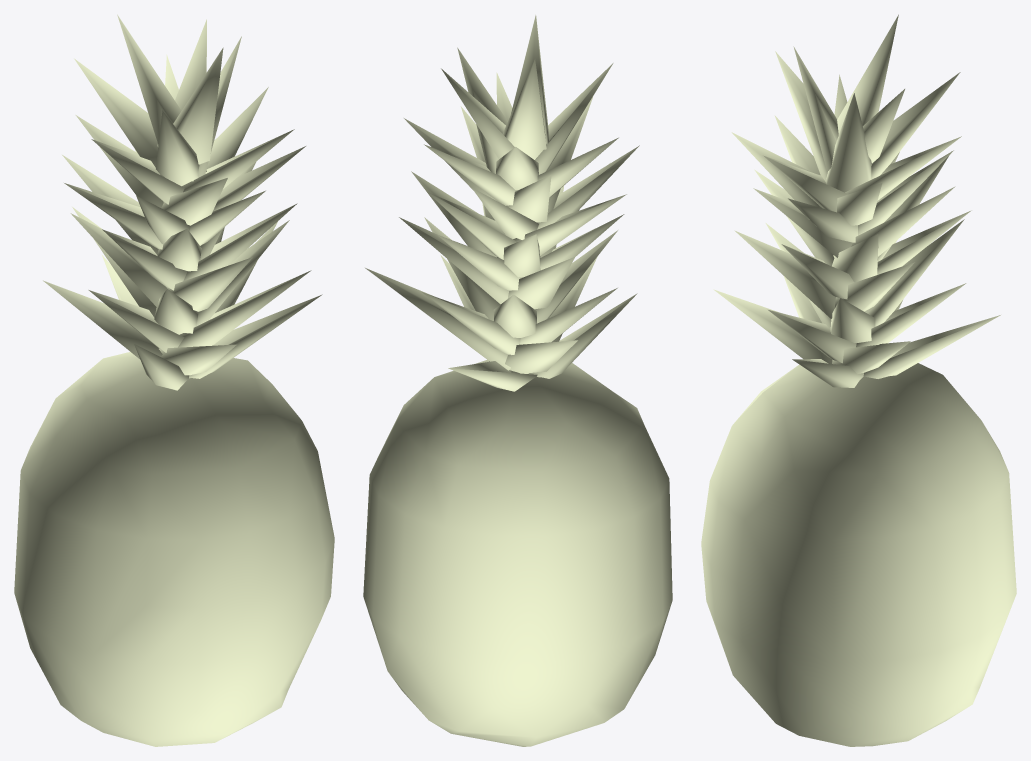
Rendered from FP_pineapple.FBX.
3 renders of one model, left to right at view 1: azimuth 30°, elevation 25°; view 2: azimuth 150°, elevation 25°; view 3: azimuth 270°, elevation 25°, orthographic. The views are drawn at different scales.
Visible parts, largest first — view 1: FP_pineapple; view 2: FP_pineapple; view 3: FP_pineapple.
Boxes of the visible parts, box(x1,y1,x2,y2) form: FP_pineapple: box(14, 14, 334, 746); FP_pineapple: box(363, 15, 672, 746); FP_pineapple: box(701, 14, 1016, 746).
Bounding box in the file's own units: 0.0598 × 0.1503 × 0.0616.
